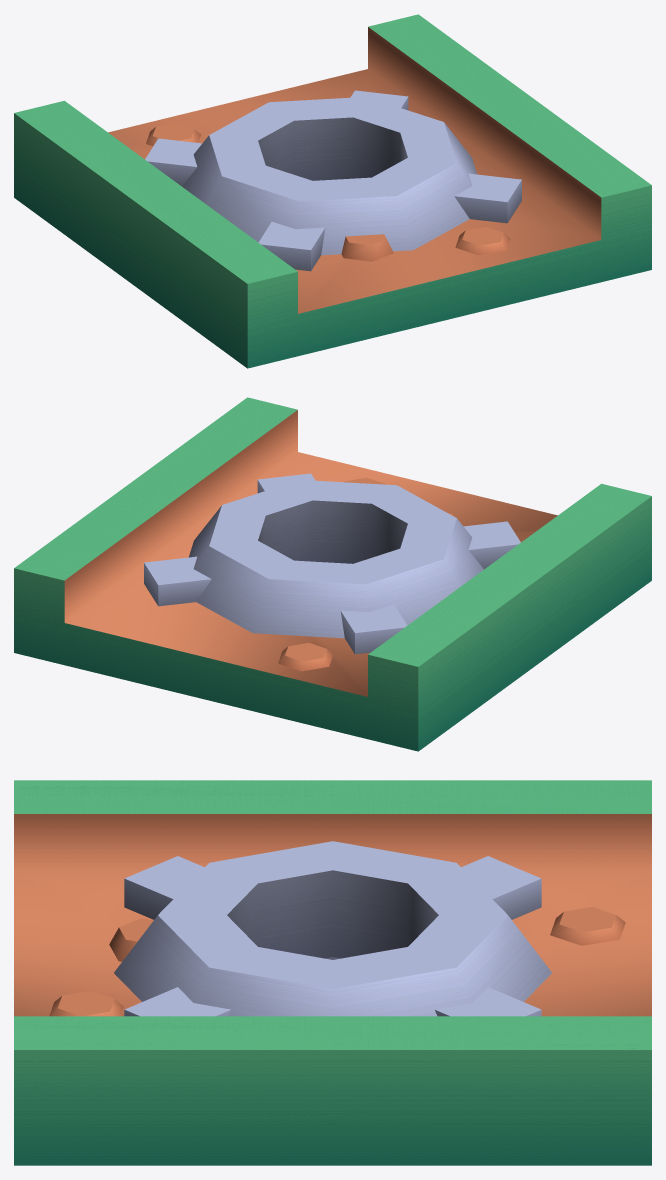
Rendered from tower-defense-kit--tile-spawn-round.glb.
The picture shows the model from 3 angles, top to bottom: view 1: azimuth 30°, elevation 25°; view 2: azimuth 150°, elevation 25°; view 3: azimuth 270°, elevation 25°; orthographic projection. The views are drawn at different scales.
Parts seen in each view (by area): view 1: tile-spawn-round; view 2: tile-spawn-round; view 3: tile-spawn-round.
Part boxes in pixels (<box>): tile-spawn-round: <box>14,14,651,368</box>; tile-spawn-round: <box>14,397,651,751</box>; tile-spawn-round: <box>14,780,651,1165</box>.
Size of the model in its own units: 1 by 0.2 by 1.
Materials: 1 (1 with a texture image).
